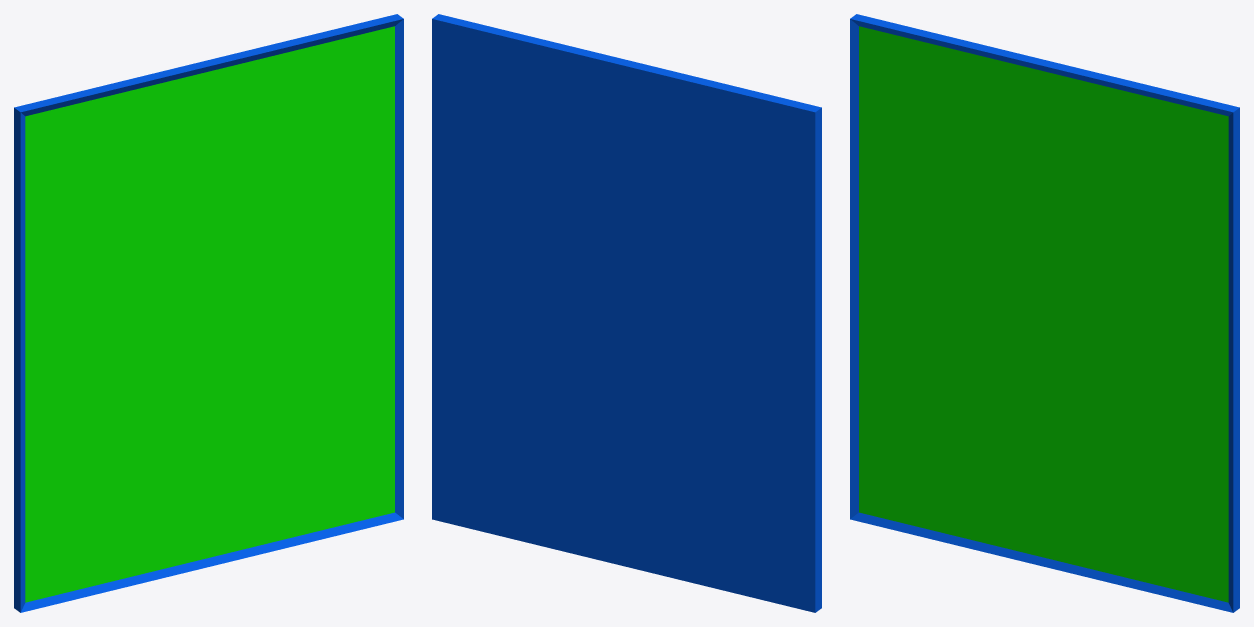
Rendered from Mirror.fbx.
The picture shows the model from 3 angles, left to right: view 1: azimuth 30°, elevation 25°; view 2: azimuth 150°, elevation 25°; view 3: azimuth 330°, elevation 25°; orthographic projection.
Parts seen in each view (by area): view 1: MirrorFace, Mirror; view 2: Mirror; view 3: MirrorFace, Mirror.
Boxes of the visible parts, left/top/right/bottom form: MirrorFace: left=25, top=26, right=394, bottom=602; Mirror: left=14, top=14, right=403, bottom=612; Mirror: left=432, top=14, right=821, bottom=612; MirrorFace: left=859, top=26, right=1228, bottom=602; Mirror: left=850, top=14, right=1239, bottom=612.
Bounding box in the file's own units: 26.27 × 32.78 × 0.7874.
